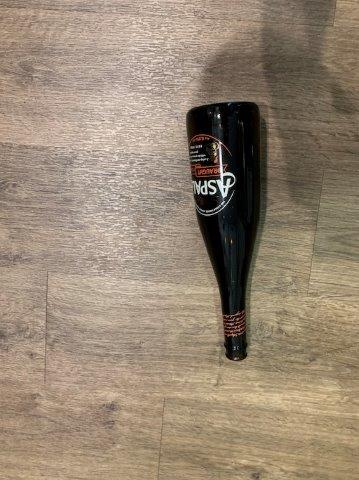botolkaca: (188, 103, 259, 359)
